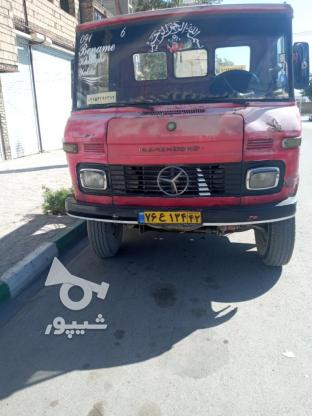car: (138, 211, 202, 224)
